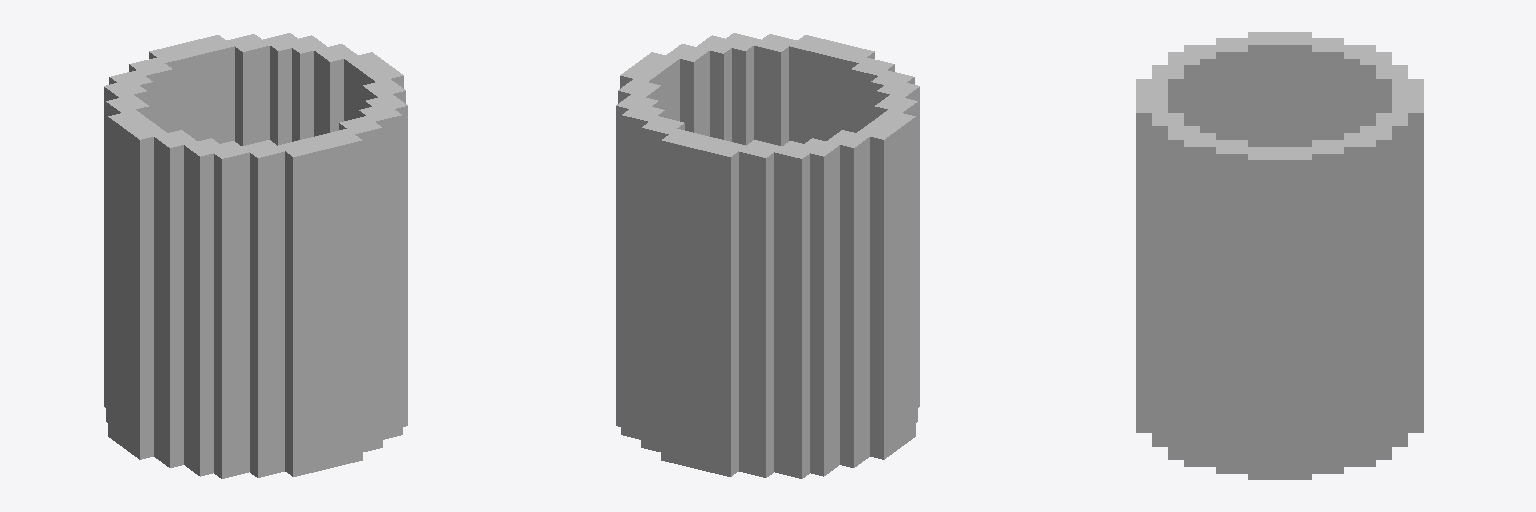
Rendered from TrashCan Empty.obj.
3 views of the same model, side by side, from view 1: azimuth 30°, elevation 25°; view 2: azimuth 150°, elevation 25°; view 3: azimuth 270°, elevation 25° (orthographic).
Visible parts, largest first — view 1: object 1; view 2: object 1; view 3: object 1.
Part boxes in pixels (left/top/right/bottom): object 1: left=104, top=33, right=407, bottom=478; object 1: left=616, top=33, right=919, bottom=478; object 1: left=1136, top=32, right=1423, bottom=479.
Size of the model in its own units: 1.9 by 2.2 by 1.8.